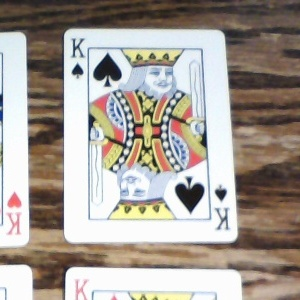card: (60, 24, 240, 245)
